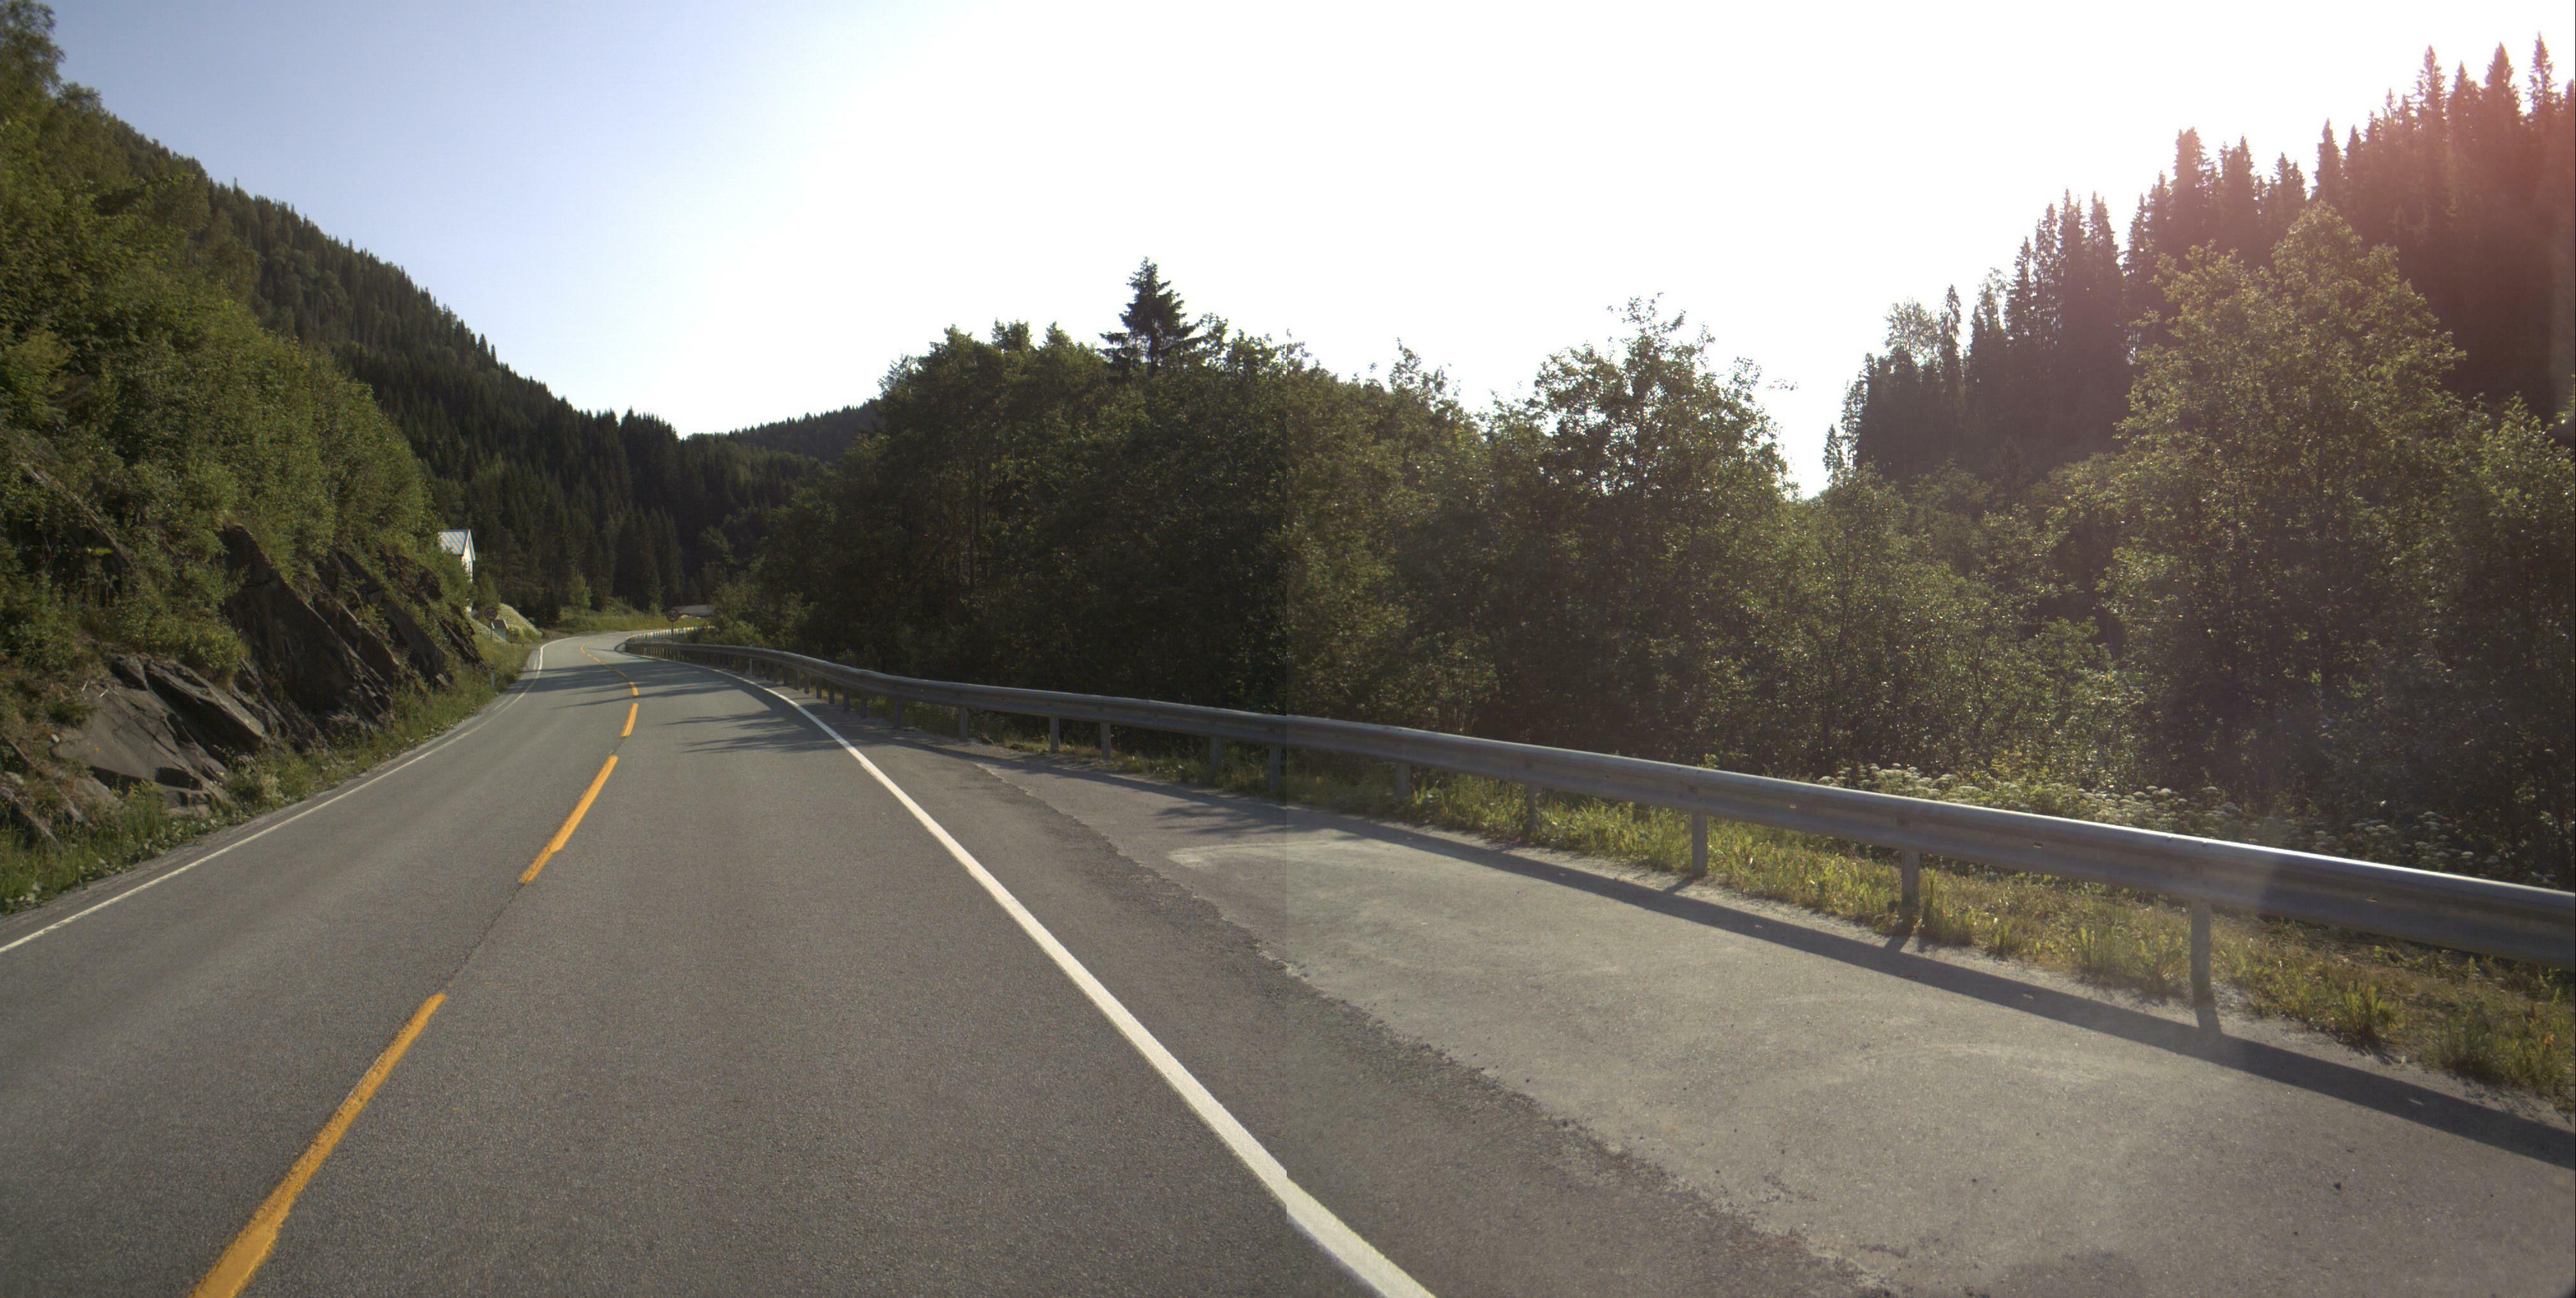Kritiska Plaisa: (433, 881, 533, 996)
